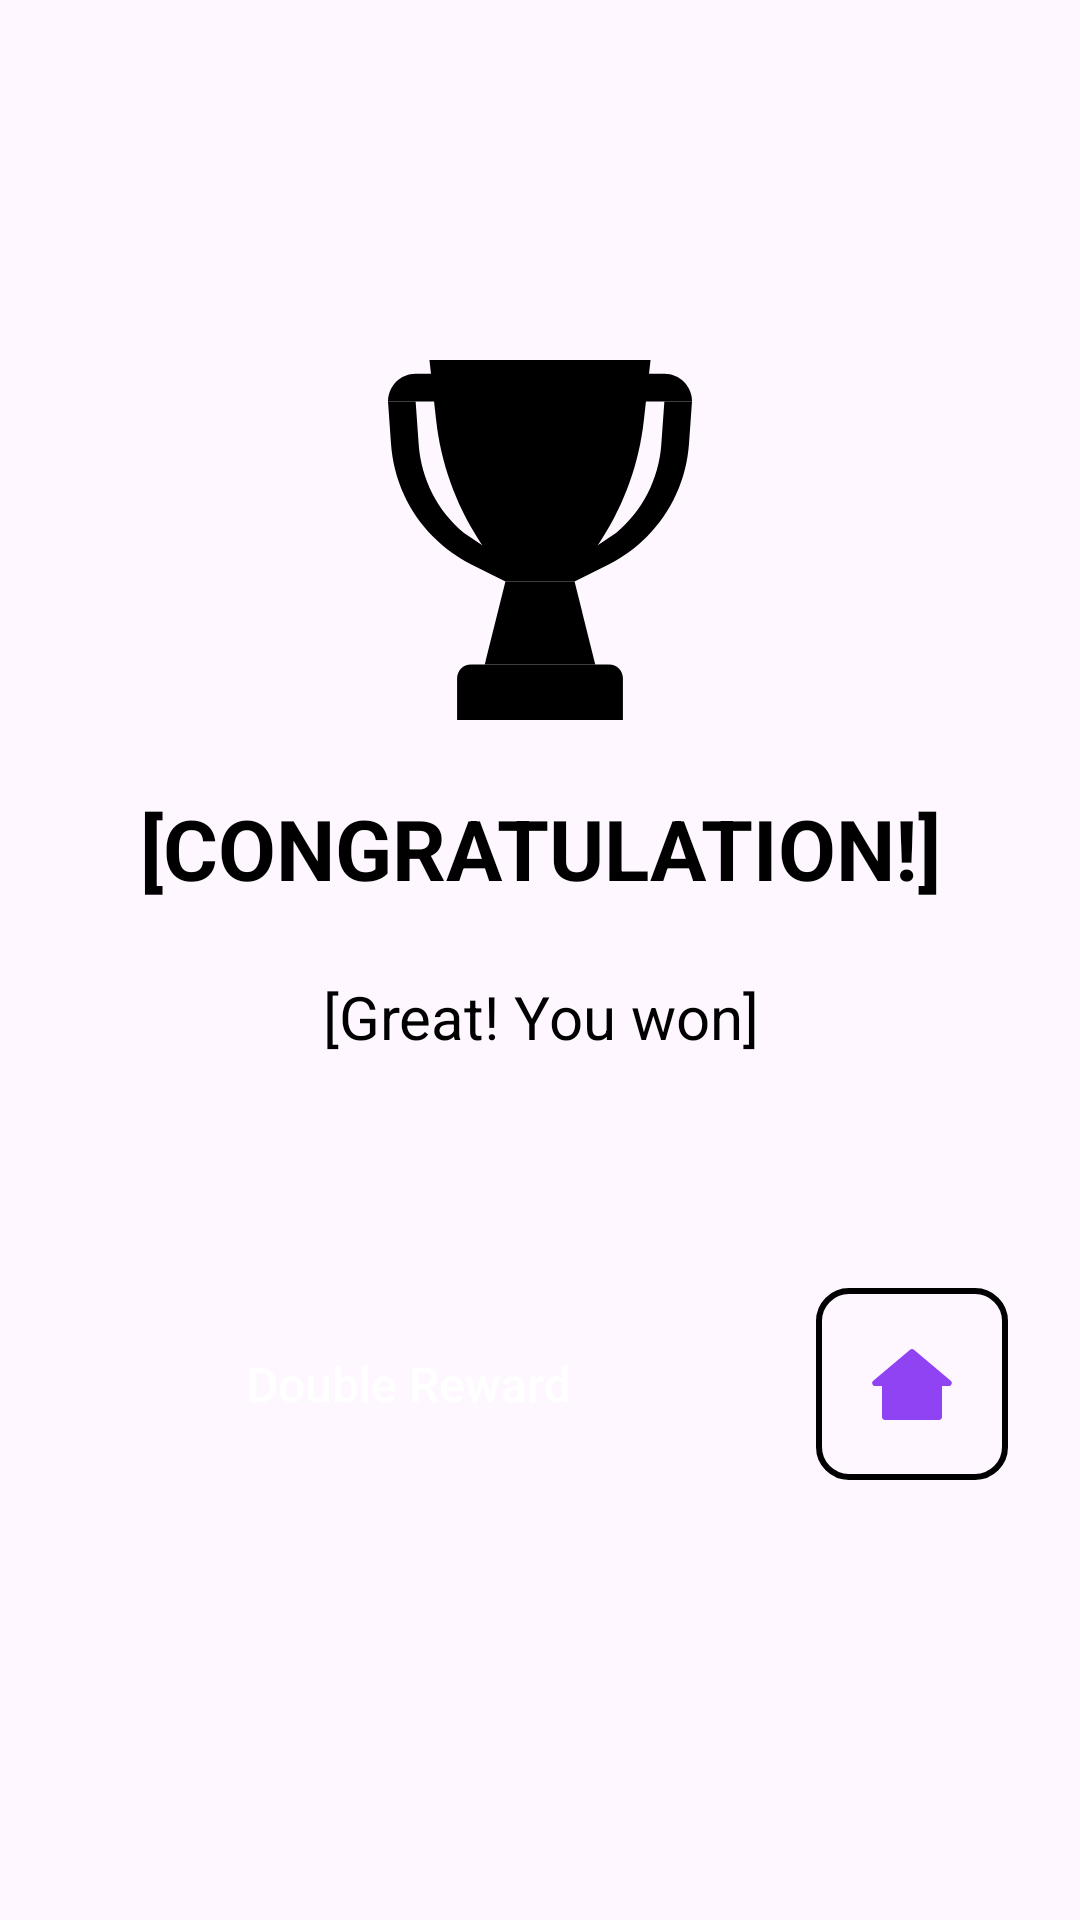

Icon click points for this 1080 × 1920 phone screenshot, format point (x, y):
home: point (912, 1384)
trophy: point (540, 540)
